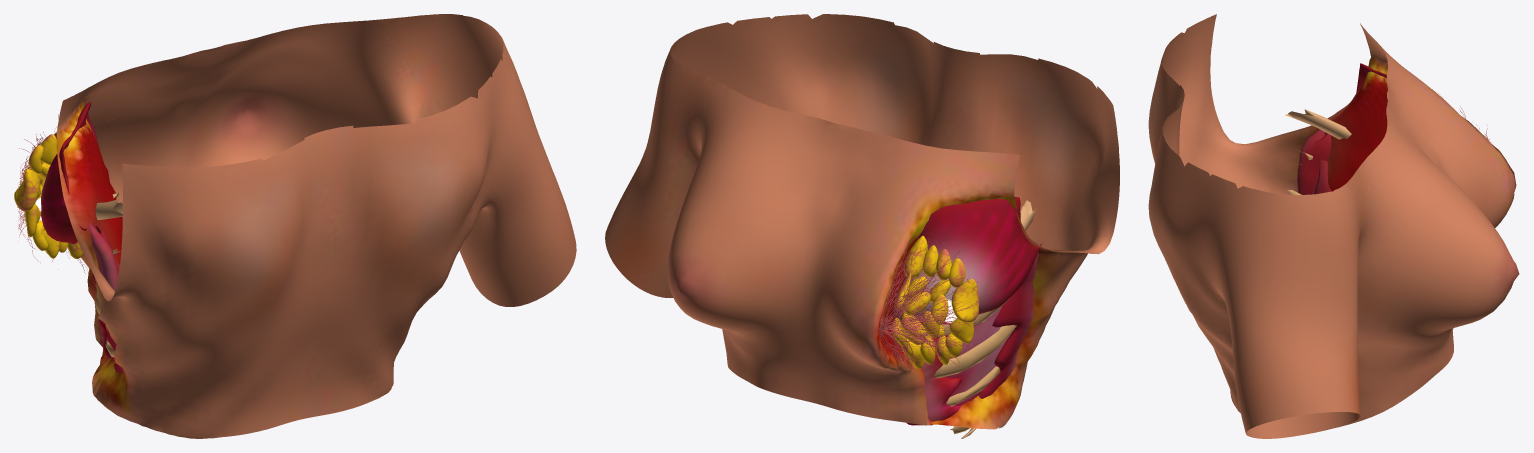
The model's file is mama_caso_007.glb.
3 renders of one model, left to right at view 1: azimuth 30°, elevation 25°; view 2: azimuth 150°, elevation 25°; view 3: azimuth 270°, elevation 25°, orthographic. The views are drawn at different scales.
Visible parts, largest first — view 1: Body, Muscles, Glands; view 2: Body, Muscles, Glands, Ducts; view 3: Body, Muscles.
Part boxes in pixels (bbox=[...]): Body: bbox=[54, 14, 576, 438]; Muscles: bbox=[41, 102, 123, 373]; Glands: bbox=[14, 134, 83, 258]; Body: bbox=[605, 14, 1119, 429]; Muscles: bbox=[894, 197, 1041, 438]; Glands: bbox=[891, 235, 978, 368]; Ducts: bbox=[878, 236, 981, 372]; Body: bbox=[1148, 14, 1519, 438]; Muscles: bbox=[1285, 63, 1386, 194].
Bounding box in the file's own units: 0.4298 × 0.2828 × 0.3122.
Materials: 5 (3 with a texture image).
